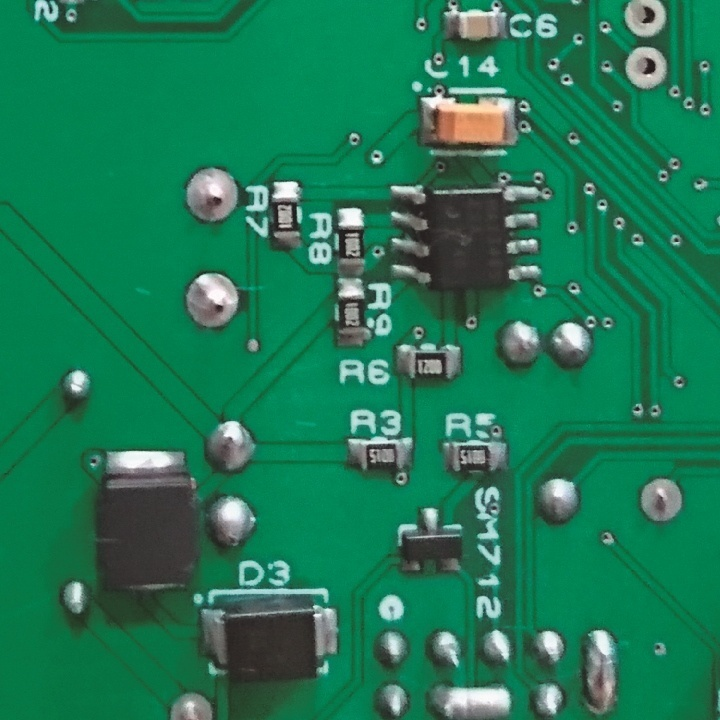F: (181, 268, 242, 333), (181, 165, 240, 225), (638, 475, 690, 527), (623, 44, 670, 97), (620, 1, 671, 40), (164, 689, 220, 720)
P: (423, 678, 513, 720), (579, 627, 620, 716)
